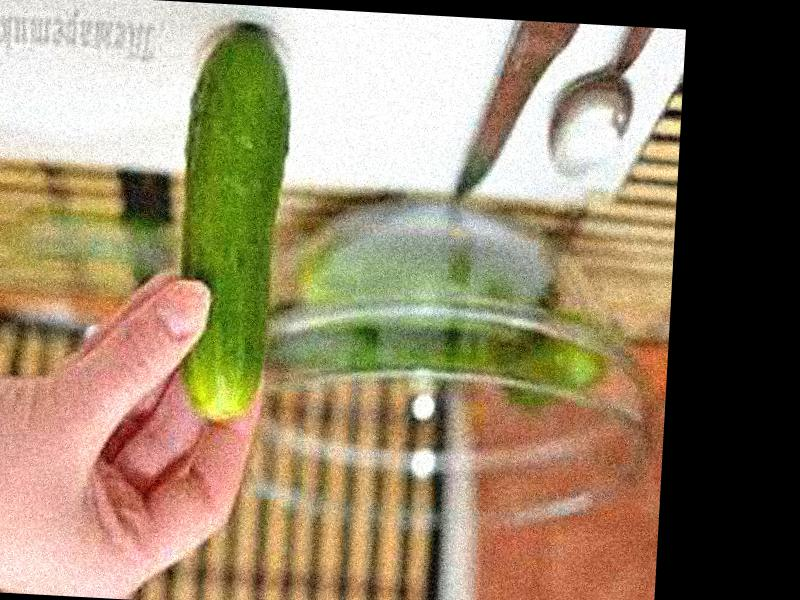Cucumber: (171, 25, 294, 423)
